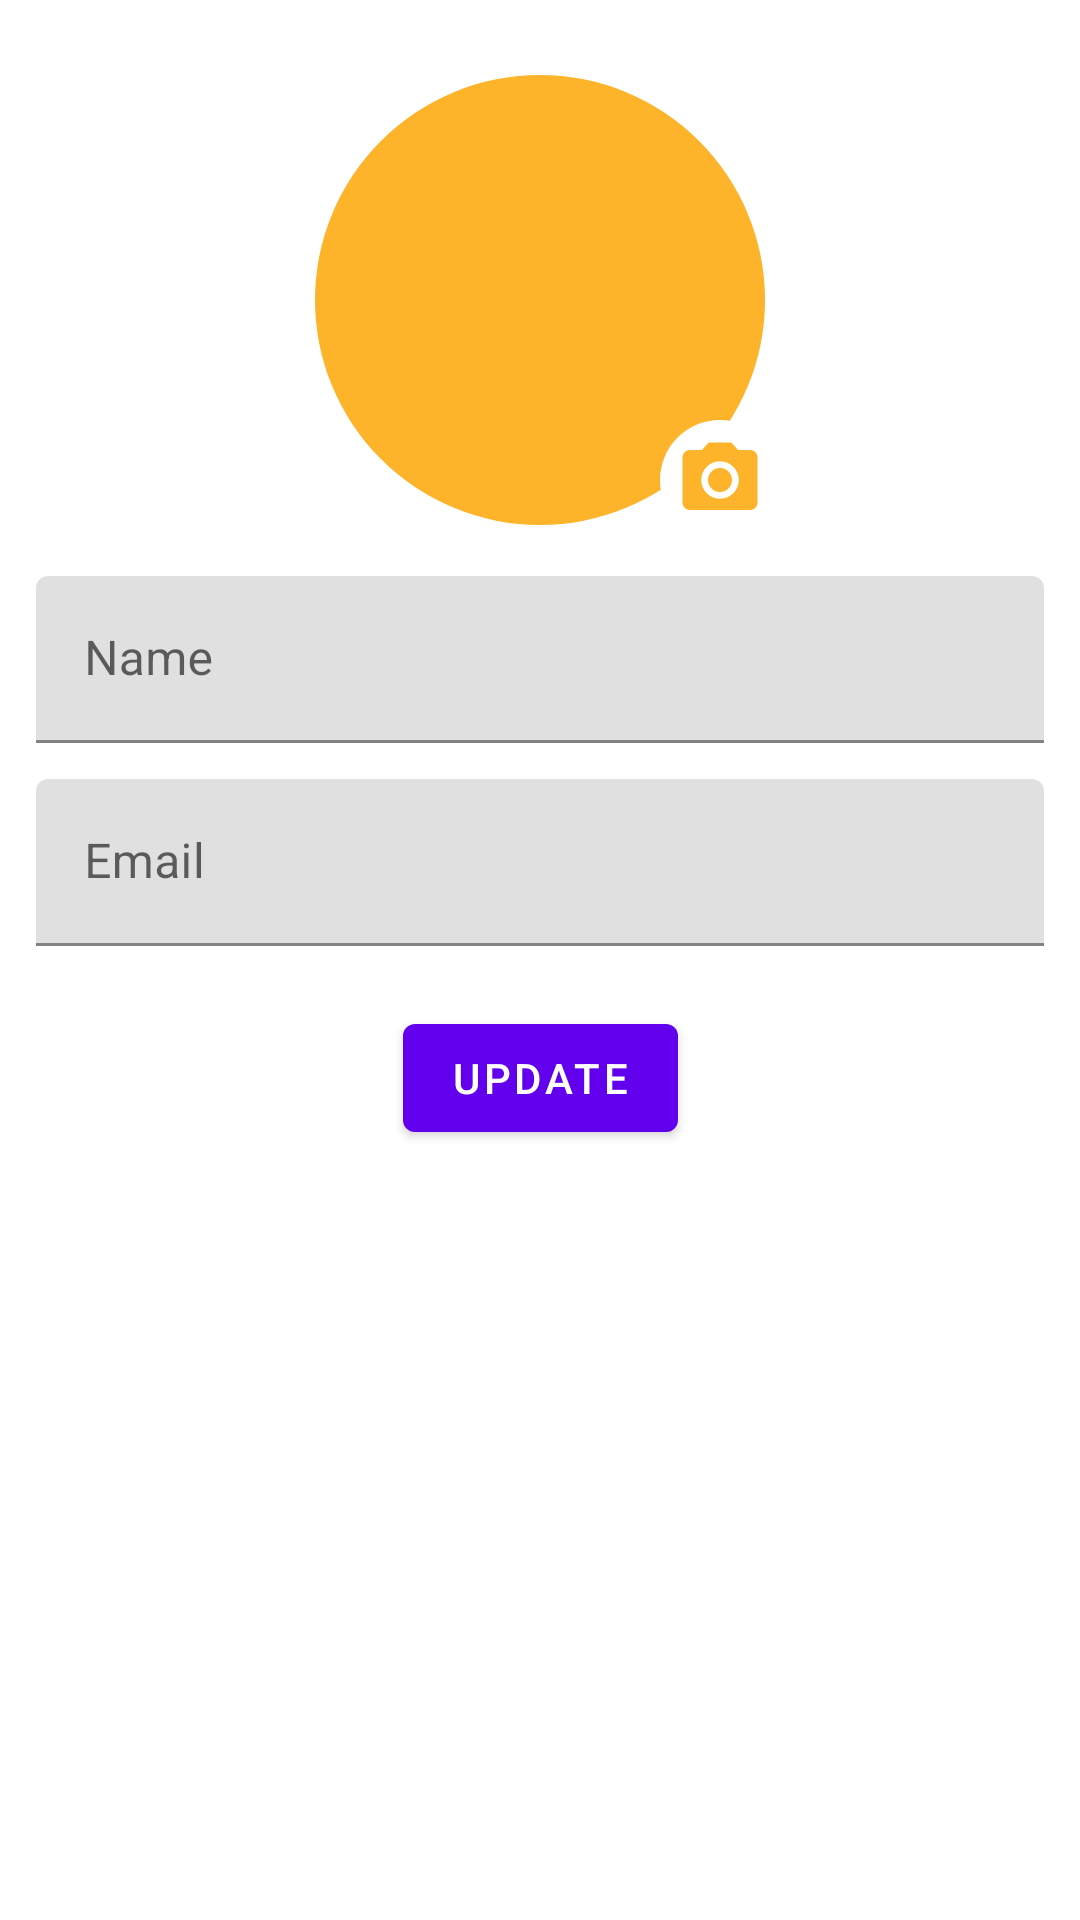

Icons on this 1080×1920 Android screen, each with the point to tap as (x,y):
camera: (720,476)
